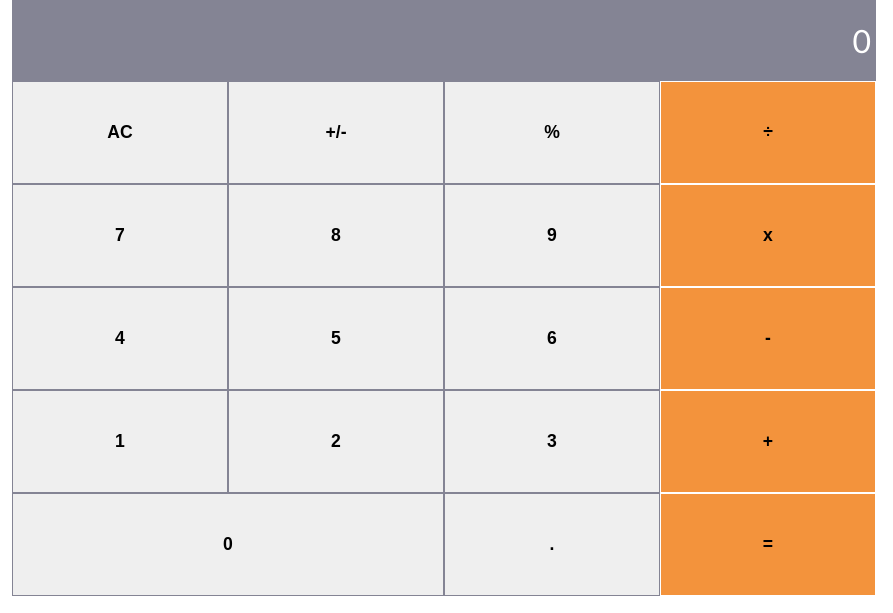
It displays exactly what is clicked › displays the value of the button clicked
The image size is (893, 613).
What coordinates should you click on to do the following:
click the button "6"
I would click on:
 (552, 338)
Its box is x1=444 y1=287 x2=660 y2=390.
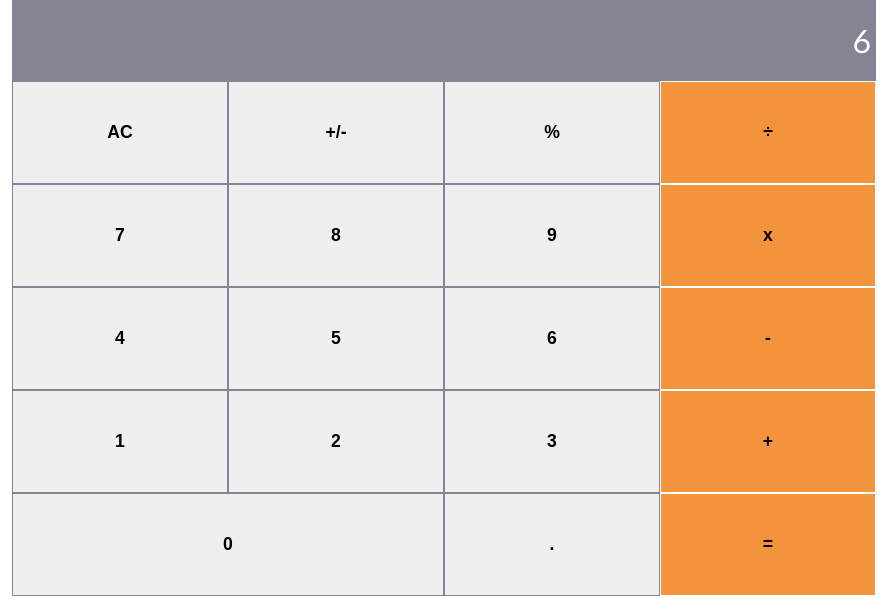
Expected: the text with test id "result" reads "6", x1=852 y1=21 x2=871 y2=60
